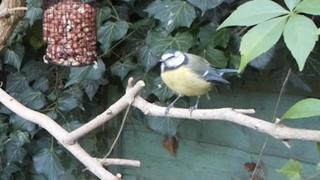blue tit: (156, 49, 239, 118)
